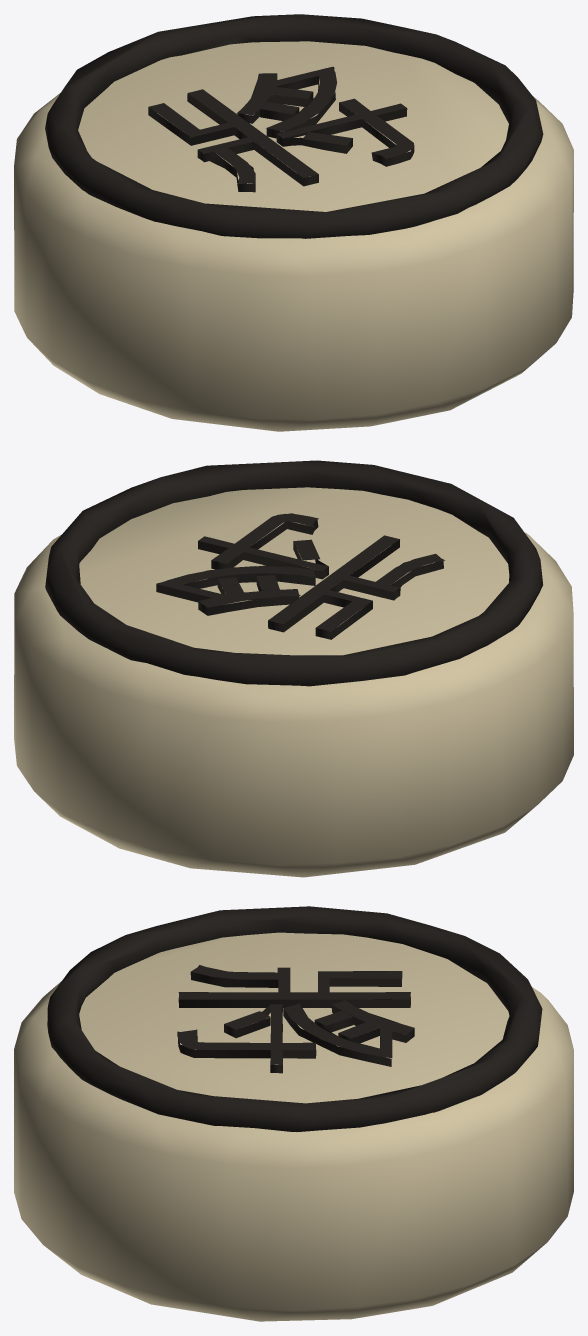
Rendered from quan_den_tuong.glb.
3 renders of one model, top to bottom at view 1: azimuth 30°, elevation 25°; view 2: azimuth 150°, elevation 25°; view 3: azimuth 270°, elevation 25°, orthographic.
Visible parts, largest first — view 1: quan_den_tuong; view 2: quan_den_tuong; view 3: quan_den_tuong.
Part boxes in pixels (x1,y1,x2,y2): quan_den_tuong: [14, 14, 573, 431]; quan_den_tuong: [14, 460, 573, 877]; quan_den_tuong: [14, 906, 573, 1321].
Size of the model in its own units: 0.0367 by 0.0153 by 0.0366.
